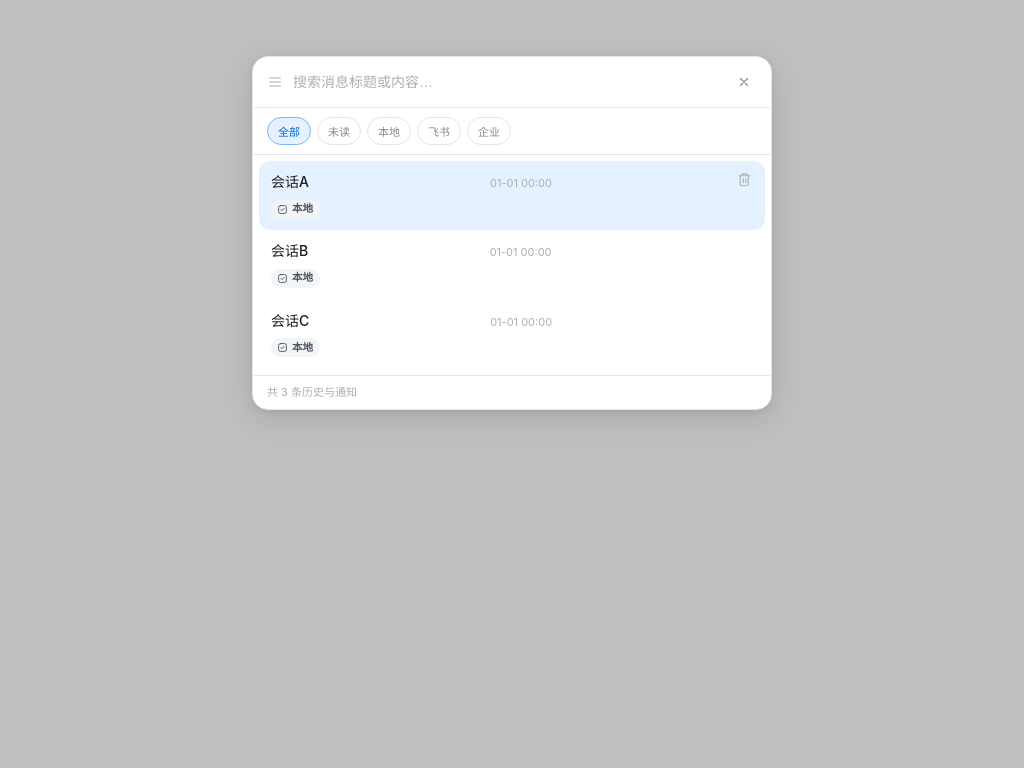
it: AllConversations：每行删除二次确认（弹窗） › 弹窗「取消」→ 不删、关闭弹窗
The image size is (1024, 768).
Click the button named "删除对话".
click(745, 180)  # box [733,168,757,192]
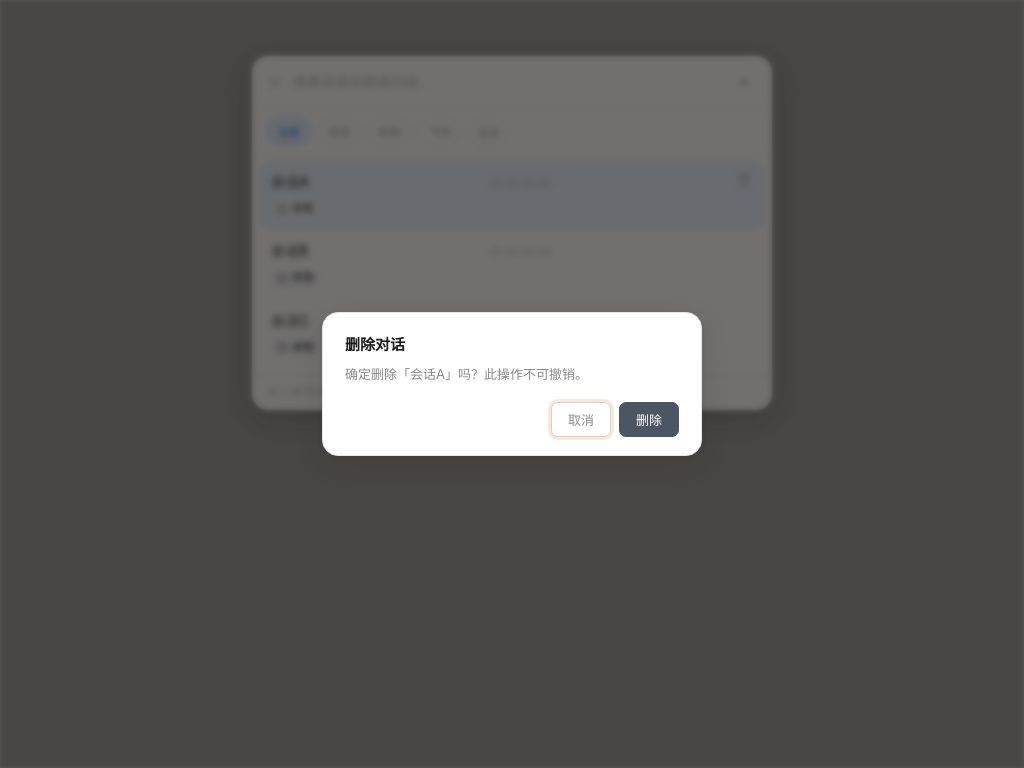
Click the button "取消".
click(581, 420)  # box [551,402,611,437]
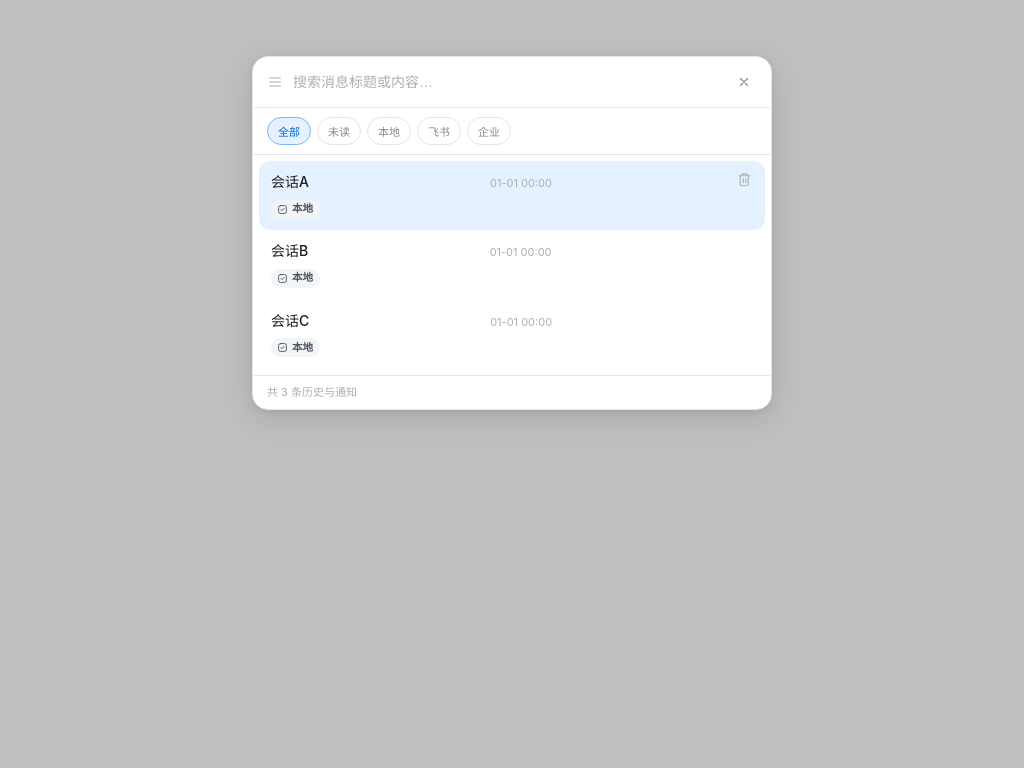
Expected: the text "确定删除「会话A」吗？此操作不可撤销。" is gone
